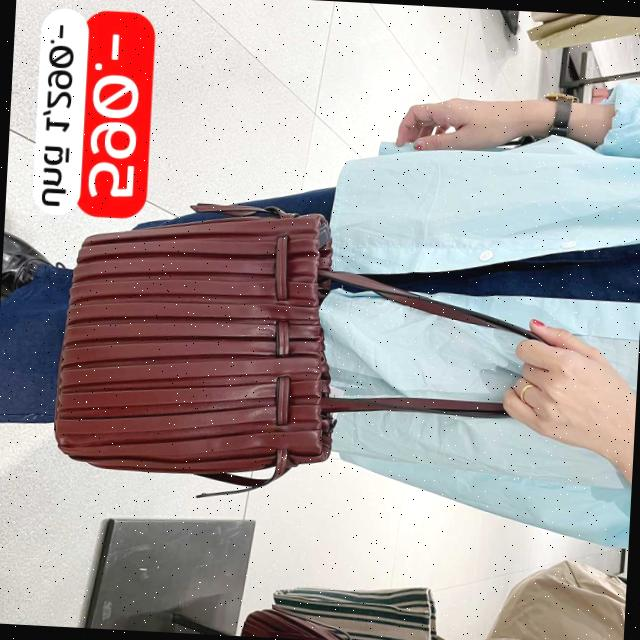Handbag: (20, 188, 358, 512)
